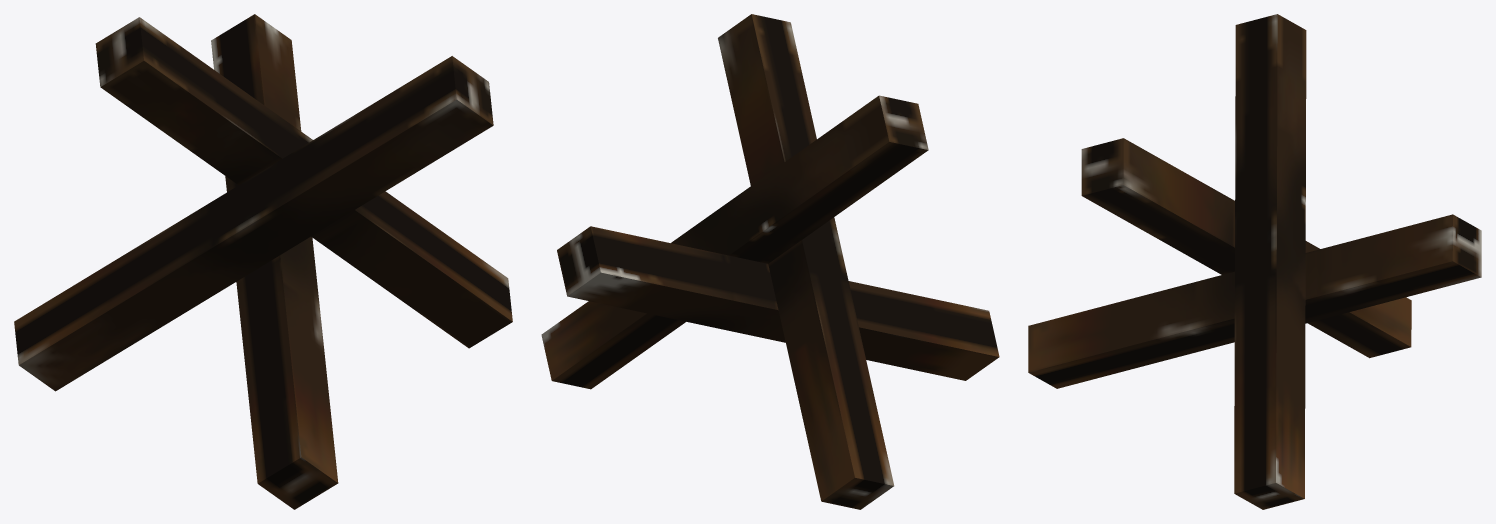
File: anti-tank_hedgehog.glb
The picture shows the model from 3 angles, left to right: view 1: azimuth 30°, elevation 25°; view 2: azimuth 150°, elevation 25°; view 3: azimuth 270°, elevation 25°; orthographic projection. The views are drawn at different scales.
Visible parts, largest first — view 1: Куб.002; view 2: Куб.002; view 3: Куб.002.
Boxes of the visible parts, x1,y1,x2,y2 form: Куб.002: (14,14,512,509); Куб.002: (541,14,999,509); Куб.002: (1028,14,1481,509).
Size of the model in its own units: 0.8777 by 0.7858 by 0.8925.
Materials: 1 (1 with a texture image).
